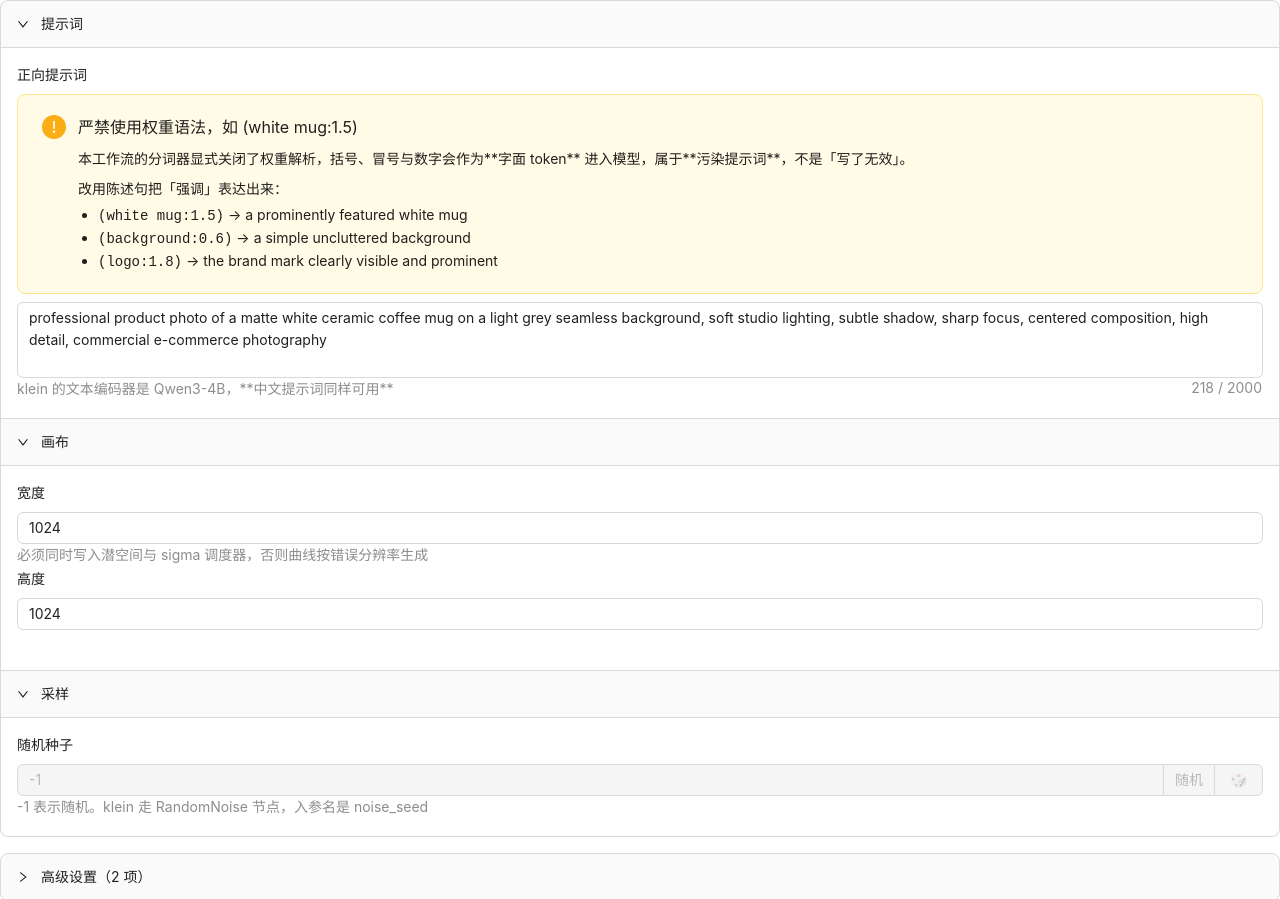
Scenario: 分组与折叠 › advanced 字段收进「高级设置」，默认不可见
Expected: the text "高级设置（2 项）" is shown, 41,868 -> 152,885
Expected: the text "采样步数" is not shown
展开后可见 —— 证明不是"渲染丢了"，只是折叠了
Step 1. Click the button "高级设置（2 项）" → (84, 877), box 17,868 -> 152,885
(page scrolled)
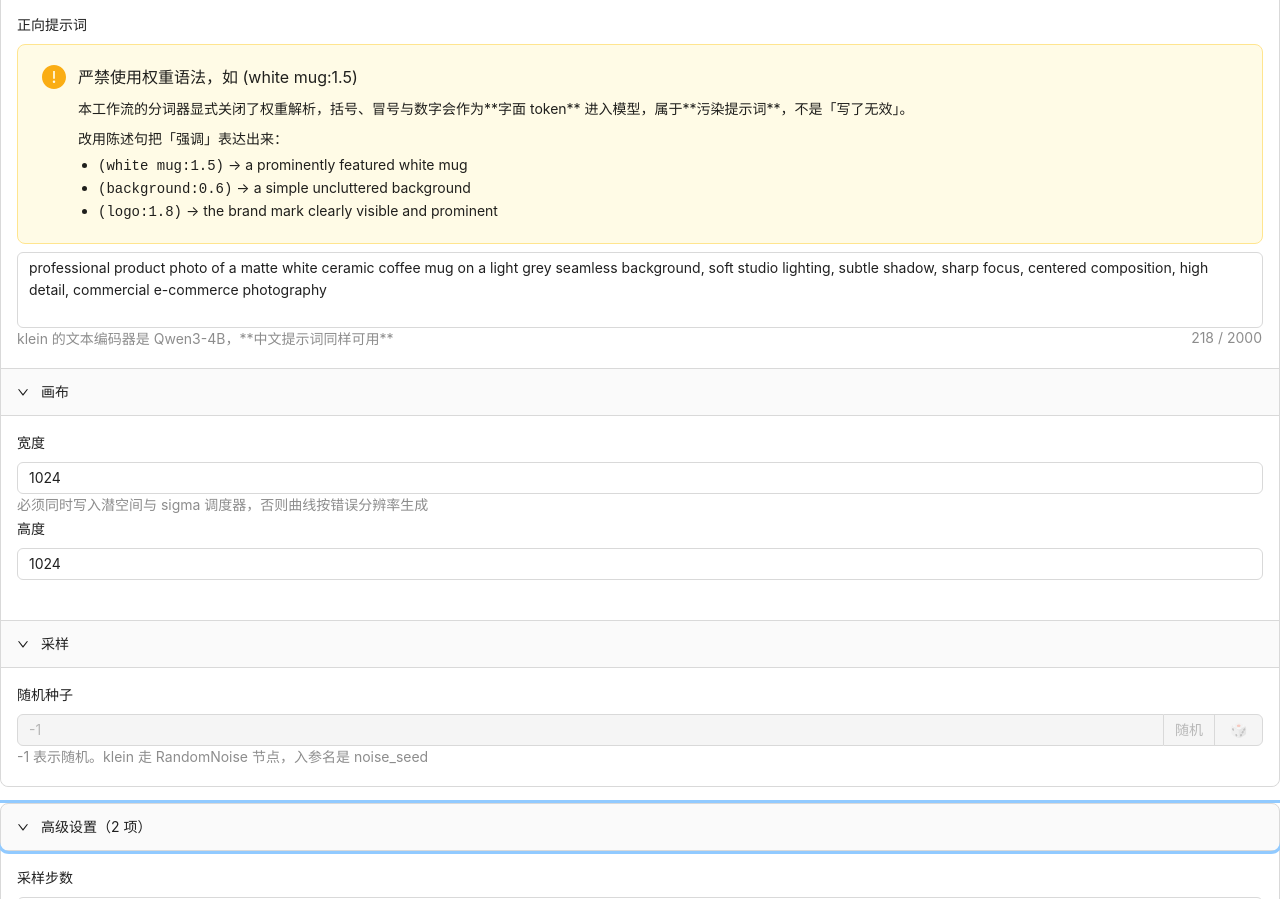
Now the text "采样步数" is shown, box 17,867 -> 87,889
